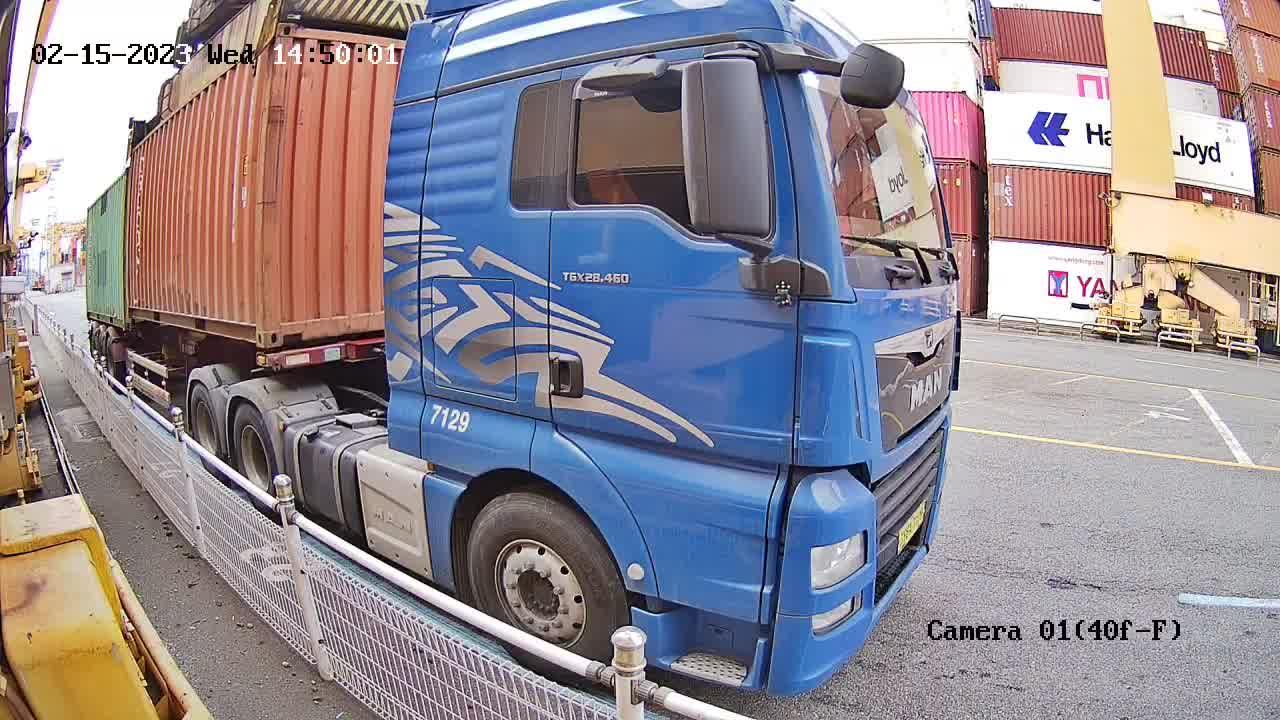Chassis: (269, 338, 384, 369)
Cone: (250, 352, 272, 368)
Hole_L: (263, 305, 310, 351)
Hole_R: (229, 304, 266, 349)
Tire: (465, 494, 626, 663), (231, 406, 277, 492), (190, 384, 221, 455)
